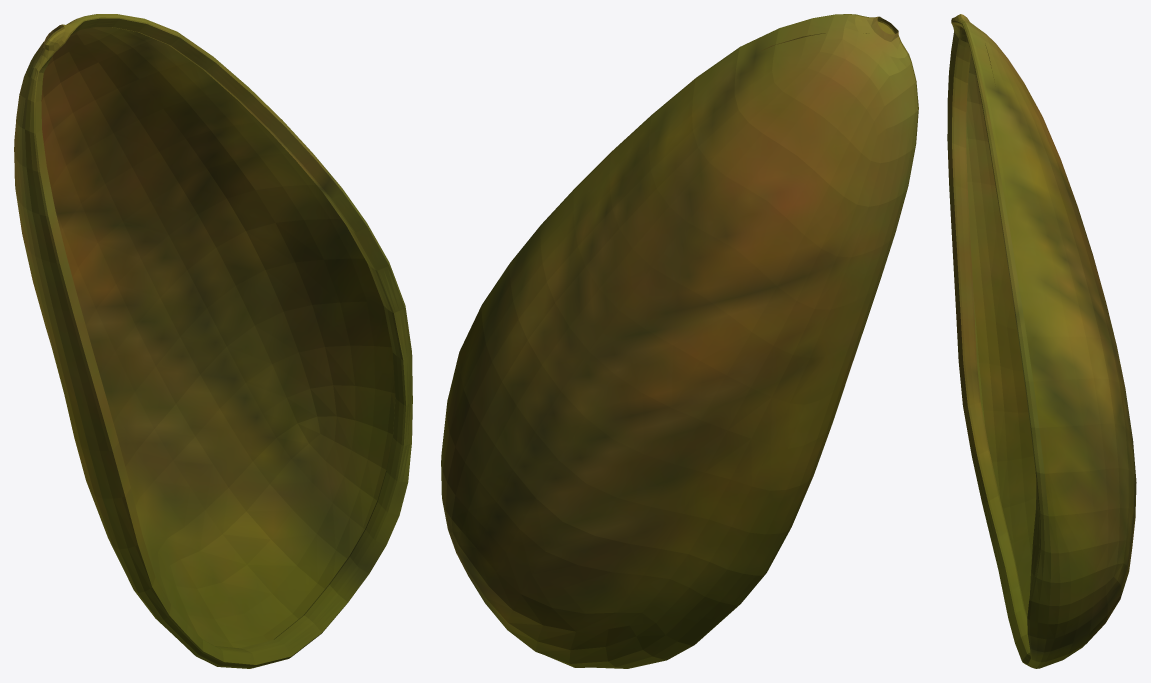
The model's file is Vesícula Biliar.FBX.
3 renders of one model, left to right at view 1: azimuth 30°, elevation 25°; view 2: azimuth 150°, elevation 25°; view 3: azimuth 270°, elevation 25°, orthographic. The views are drawn at different scales.
Visible parts, largest first — view 1: conducte; view 2: conducte; view 3: conducte.
Part boxes in pixels (x1,y1,x2,y2): conducte: (14,14,412,668); conducte: (441,14,918,668); conducte: (947,14,1136,668).
Bounding box in the file's own units: 84.97 × 133 × 41.27.
